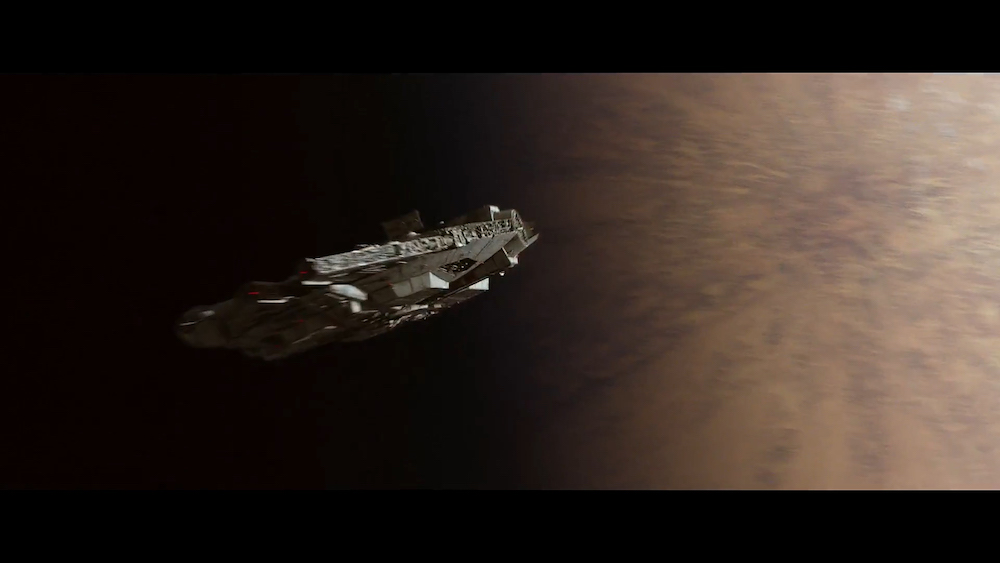Millennium Falcon: (176, 204, 544, 364)
